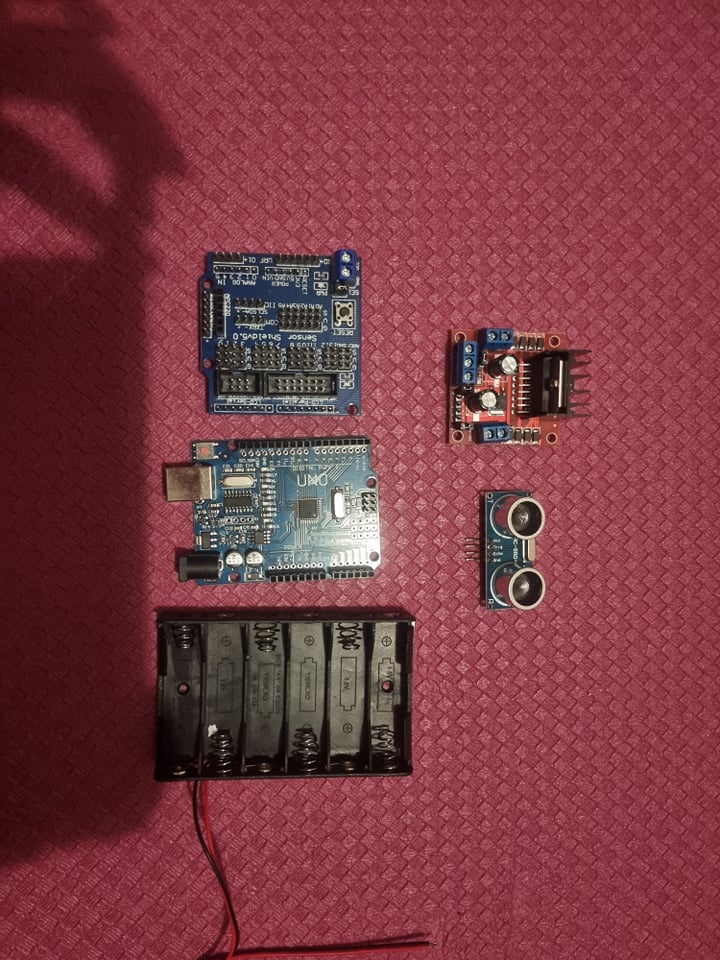5V EXPANSION: (199, 252, 364, 416)
BATTERY BOX: (153, 610, 416, 779)
MOTOR: (450, 329, 591, 449)
SENSOR: (477, 487, 550, 613)
UNO R3: (160, 434, 384, 588)
